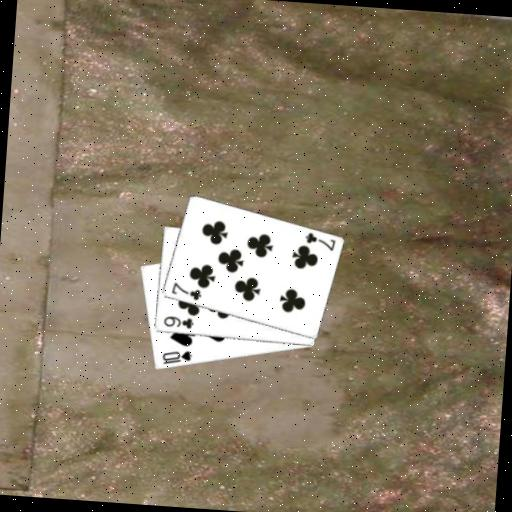10S: (159, 347, 194, 368)
7C: (301, 230, 337, 254), (168, 279, 204, 302)
9C: (160, 313, 196, 331)
